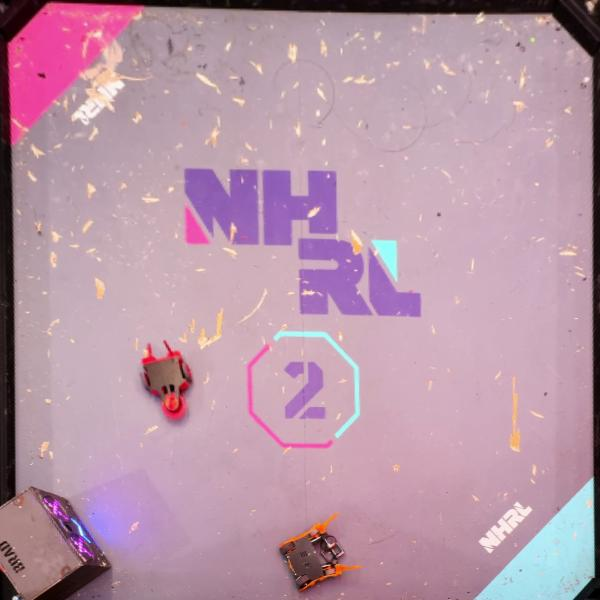housebot: (0, 485, 113, 599)
robot: (280, 514, 361, 593), (140, 340, 194, 420)
